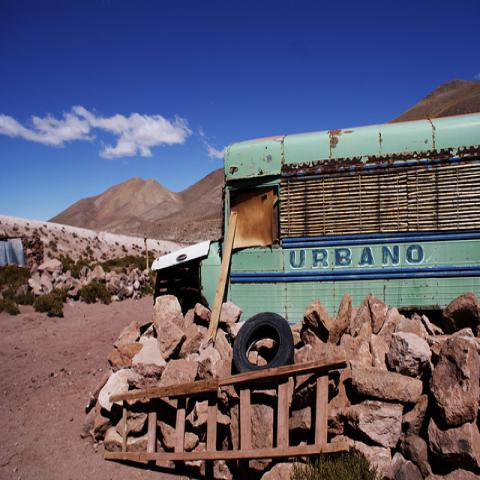bus: (154, 110, 479, 326)
